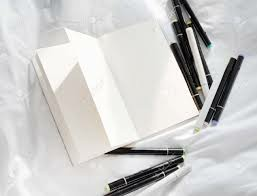pen: (100, 157, 188, 196), (216, 42, 245, 133), (173, 13, 204, 95), (191, 72, 220, 127), (96, 141, 184, 155)
